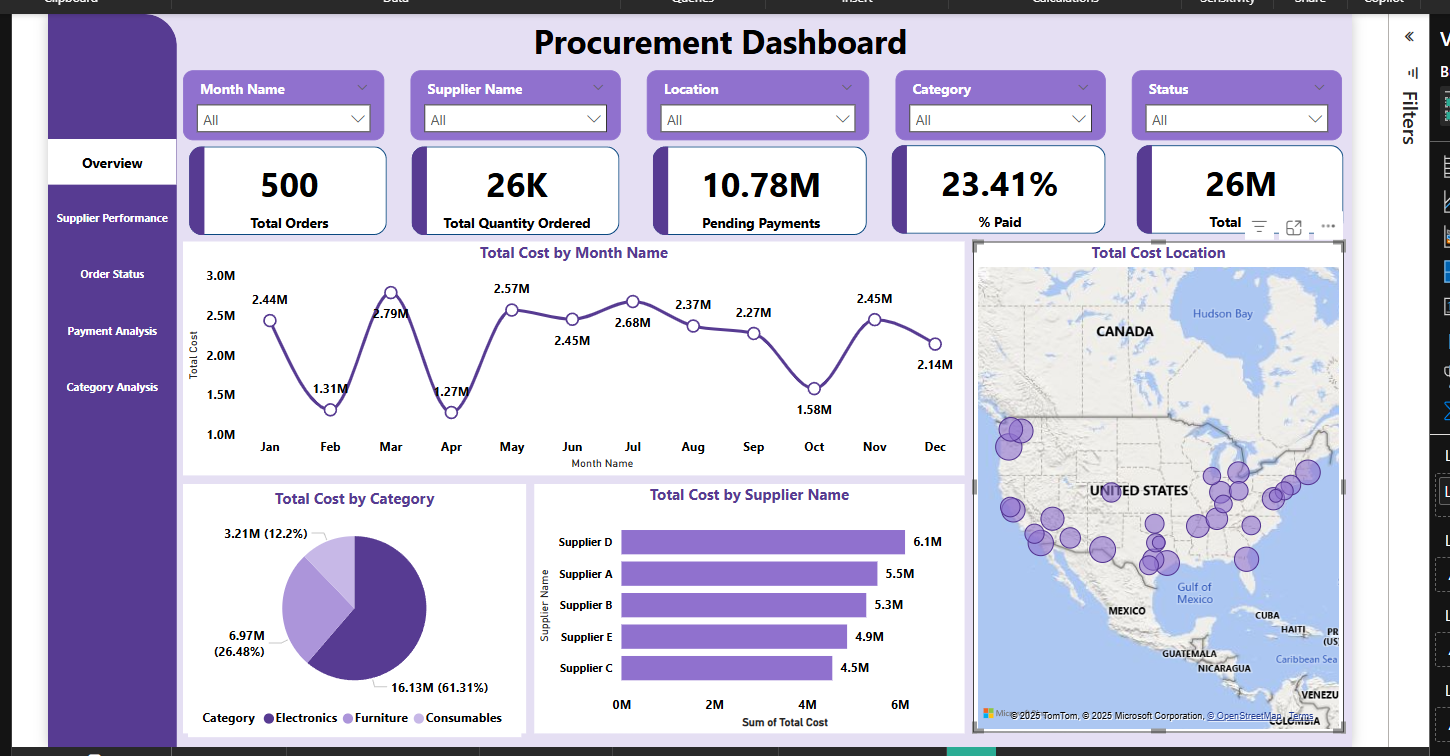

The page's visual inventory and layout, read from the dashboard file:
{"tool":"powerbi","page":{"name":"Overview","canvas":[1280,720],"ordinal":0},"visuals":[{"type":"textbox","box":[418,0,483.1,55.3],"z":0},{"type":"slicer","fields":{"Values":["Calendar Table.Month Name"]},"box":[132.7,55.5,197.9,68.8],"z":1000},{"type":"slicer","fields":{"Values":["Data.Supplier Name"]},"box":[356.2,55.5,206.3,68.8],"z":2000},{"type":"slicer","fields":{"Values":["Data.Location"]},"box":[588.1,55.5,218.4,68.8],"z":3000},{"type":"slicer","fields":{"Values":["Data.Status"]},"box":[1064.1,55.5,206.3,68.8],"z":4000},{"type":"slicer","fields":{"Values":["Data.Category"]},"box":[832.1,55.5,206.3,68.8],"z":5000},{"type":"cardVisual","fields":{"Data":["Data.Total Spend"]},"box":[1063.9,124.3,214,97.8],"z":6000},{"type":"cardVisual","fields":{"Data":["Data.Total Orders"]},"box":[133.2,124.6,204.8,97.4],"z":7000},{"type":"cardVisual","fields":{"Data":["Data.Total Quantity Ordered"]},"box":[352.4,124.6,214.9,97.4],"z":8000},{"type":"cardVisual","fields":{"Data":["Data.Pending Payments"]},"box":[588.7,124.6,220.6,97.4],"z":9000},{"type":"cardVisual","fields":{"Data":["Measures Calculation.% Paid"]},"box":[823.5,124.3,220.8,97.7],"z":10000},{"type":"gauge","box":[132.7,460.9,336.6,244.9],"z":11000},{"type":"clusteredBarChart","title":" Total Cost by Supplier Name","fields":{"Category":["Data.Supplier Name"],"Y":["Sum(Data.Total Cost)"]},"box":[477.8,460.9,422.3,244.9],"z":12000},{"type":"shape","box":[0,0,126.7,720.2],"z":13000},{"type":"map","title":"Total Cost Location","fields":{"Category":["Data.Location"],"Size":["Measures Calculation.Total Cost"]},"box":[908.4,223.2,364.3,482.6],"z":14000},{"type":"lineChart","title":" Total Cost by Month Name","fields":{"Category":["Calendar Table.Month Name"],"Y":["Measures Calculation.Total Spend"]},"box":[132.7,223.2,767.3,229.2],"z":15000},{"type":"pieChart","title":" Total Cost by Category","fields":{"Category":["Data.Category"],"Y":["Sum(Data.Total Cost)"]},"box":[137.5,464.5,326.9,244.9],"z":16000},{"type":"pageNavigator","box":[0,123.2,126.1,269.3],"z":17000}]}

Visuals, with their boxes on the page's 1280x720 design canvas (x1, y1, x2, y2). These are canvas units, not pixel positions in the 1450x756 screenshot, which may show the page scaled, cropped or inside an application window:
textbox: 418 0 901 55
slicer - Calendar Table.Month Name: 133 56 331 124
slicer - Data.Supplier Name: 356 56 562 124
slicer - Data.Location: 588 56 806 124
slicer - Data.Status: 1064 56 1270 124
slicer - Data.Category: 832 56 1038 124
cardVisual - Data.Total Spend: 1064 124 1278 222
cardVisual - Data.Total Orders: 133 125 338 222
cardVisual - Data.Total Quantity Ordered: 352 125 567 222
cardVisual - Data.Pending Payments: 589 125 809 222
cardVisual - Measures Calculation.% Paid: 824 124 1044 222
gauge: 133 461 469 706
" Total Cost by Supplier Name" clusteredBarChart: 478 461 900 706
shape: 0 0 127 720
"Total Cost Location" map: 908 223 1273 706
" Total Cost by Month Name" lineChart: 133 223 900 452
" Total Cost by Category" pieChart: 138 464 464 709
pageNavigator: 0 123 126 392
